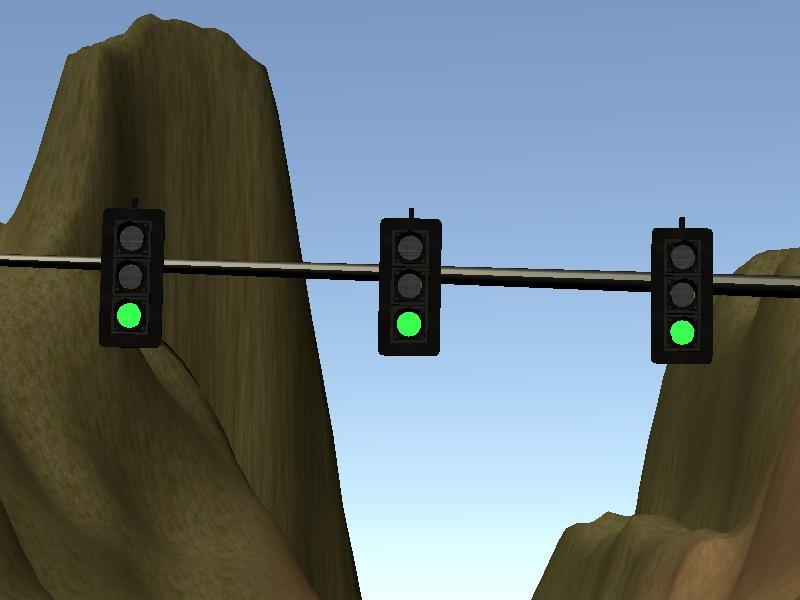green: (374, 208, 448, 368), (649, 214, 716, 371), (98, 202, 162, 349)
